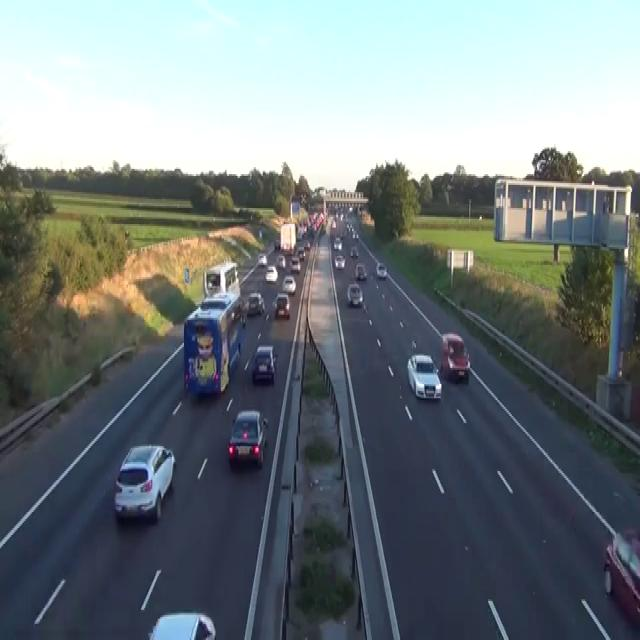Car: (113, 443, 175, 521), (603, 530, 639, 622), (227, 409, 268, 469), (148, 612, 216, 638), (406, 352, 442, 400), (440, 330, 470, 380), (251, 345, 277, 384), (272, 292, 290, 318), (231, 299, 246, 327), (247, 292, 265, 314), (347, 282, 363, 306), (281, 274, 296, 293), (264, 265, 278, 283), (375, 262, 387, 278), (355, 263, 367, 279), (289, 256, 300, 272), (334, 254, 345, 268), (258, 252, 267, 266), (349, 245, 358, 258), (333, 237, 342, 250), (277, 254, 285, 268), (297, 246, 305, 260), (296, 228, 303, 238), (274, 238, 280, 249), (304, 240, 310, 251), (352, 231, 358, 240), (331, 219, 336, 229), (348, 204, 353, 212), (258, 230, 262, 238), (340, 212, 344, 220)
Truck: (183, 292, 246, 396), (202, 260, 240, 298), (279, 222, 296, 254)
